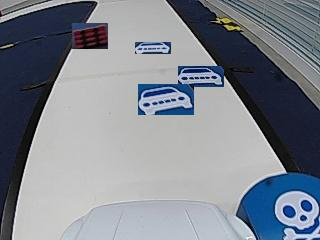danger: (273, 192, 319, 239)
